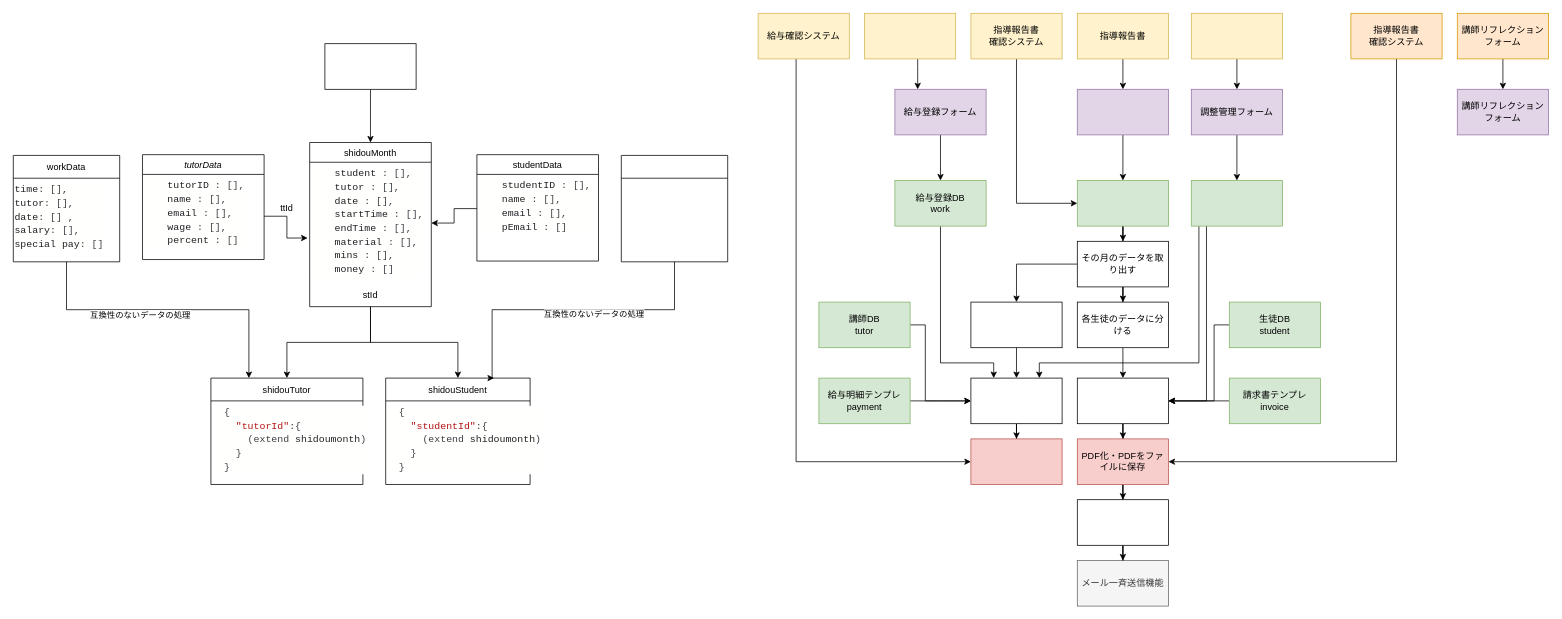
This 1562x619 diagram has some shape labels left out. The centre of each missing label's shape, as x and y in pixels:
[name][email][url][month]: the point at 1122,522
adjust: the point at 674,208
PDF化・PDFファイル保存: the point at 1016,461
各生徒「請求書」シート複製→データ入れる: the point at 1122,400
各講師「給与明細」シート複製→データ入力: the point at 1016,400
各講師のデータに分ける: the point at 1016,324
指導報告書DB: the point at 370,66
指導報告書DB shidou: the point at 1122,203
指導報告書フォーム: the point at 1122,112
給与登録: the point at 910,36
調整管理: the point at 1236,36
調整管理DB adjust: the point at 1236,203
